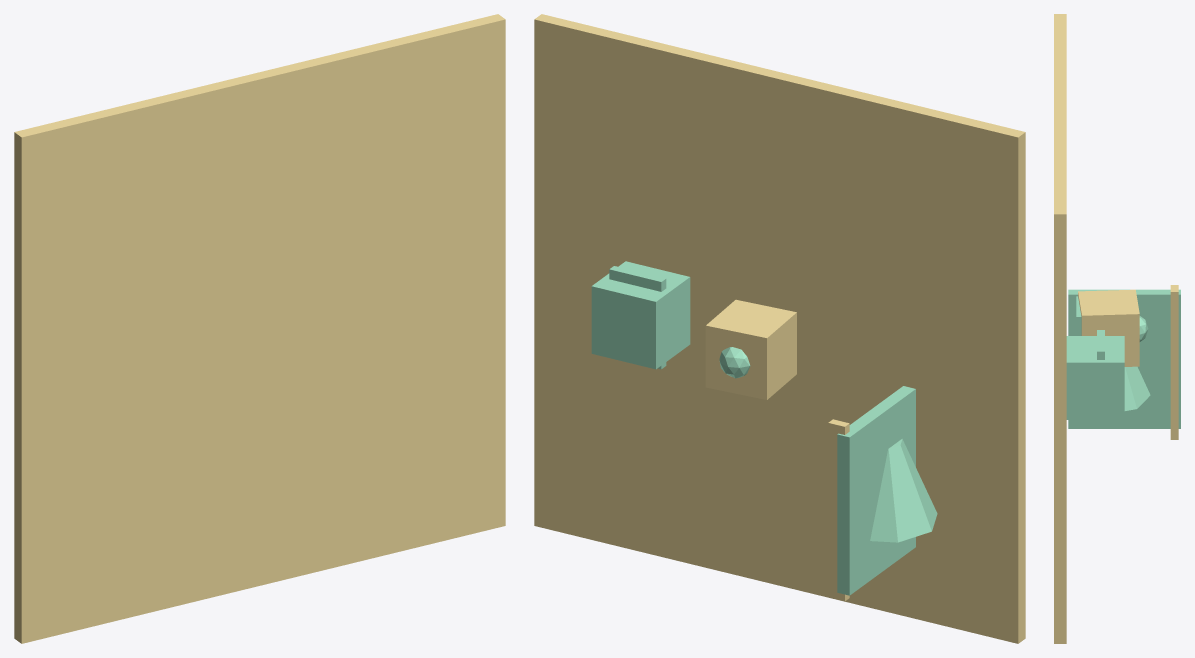
Rendered from sudoku-master-kit.glb.
The picture shows the model from 3 angles, left to right: view 1: azimuth 30°, elevation 25°; view 2: azimuth 150°, elevation 25°; view 3: azimuth 270°, elevation 25°; orthographic projection. The views are drawn at different scales.
Visible parts, largest first — view 1: ENVIRONMENT_GROUND; view 2: ENVIRONMENT_GROUND, PROFILE_ENVIRONMENT_DETAIL, OBSTACLE, PLAYER_BODY, ENVIRONMENT_LANDMARK, PROFILE_ENVIRONMENT_TRIM, PROFILE_OBSTACLE_DETAIL, PLAYER_CORE; view 3: ENVIRONMENT_GROUND, PROFILE_ENVIRONMENT_DETAIL, OBSTACLE, PLAYER_BODY, PROFILE_ENVIRONMENT_TRIM, ENVIRONMENT_LANDMARK, PROFILE_OBSTACLE_DETAIL.
Boxes of the visible parts, box(x1,y1,x2,y2) form: ENVIRONMENT_GROUND: box(14, 14, 505, 643); ENVIRONMENT_GROUND: box(534, 14, 1025, 643); PROFILE_ENVIRONMENT_DETAIL: box(837, 386, 915, 595); OBSTACLE: box(591, 261, 690, 369); PLAYER_BODY: box(705, 299, 796, 399); ENVIRONMENT_LANDMARK: box(870, 439, 937, 542); PROFILE_ENVIRONMENT_TRIM: box(828, 419, 849, 601); PROFILE_OBSTACLE_DETAIL: box(609, 266, 666, 369); PLAYER_CORE: box(719, 347, 750, 378); ENVIRONMENT_GROUND: box(1054, 14, 1066, 643); PROFILE_ENVIRONMENT_DETAIL: box(1068, 289, 1180, 428); OBSTACLE: box(1066, 336, 1124, 419); PLAYER_BODY: box(1078, 289, 1139, 366); PROFILE_ENVIRONMENT_TRIM: box(1170, 285, 1178, 439); ENVIRONMENT_LANDMARK: box(1124, 366, 1150, 410); PROFILE_OBSTACLE_DETAIL: box(1097, 330, 1104, 425).
Bounding box in the file's own units: 9 × 9 × 2.41.
